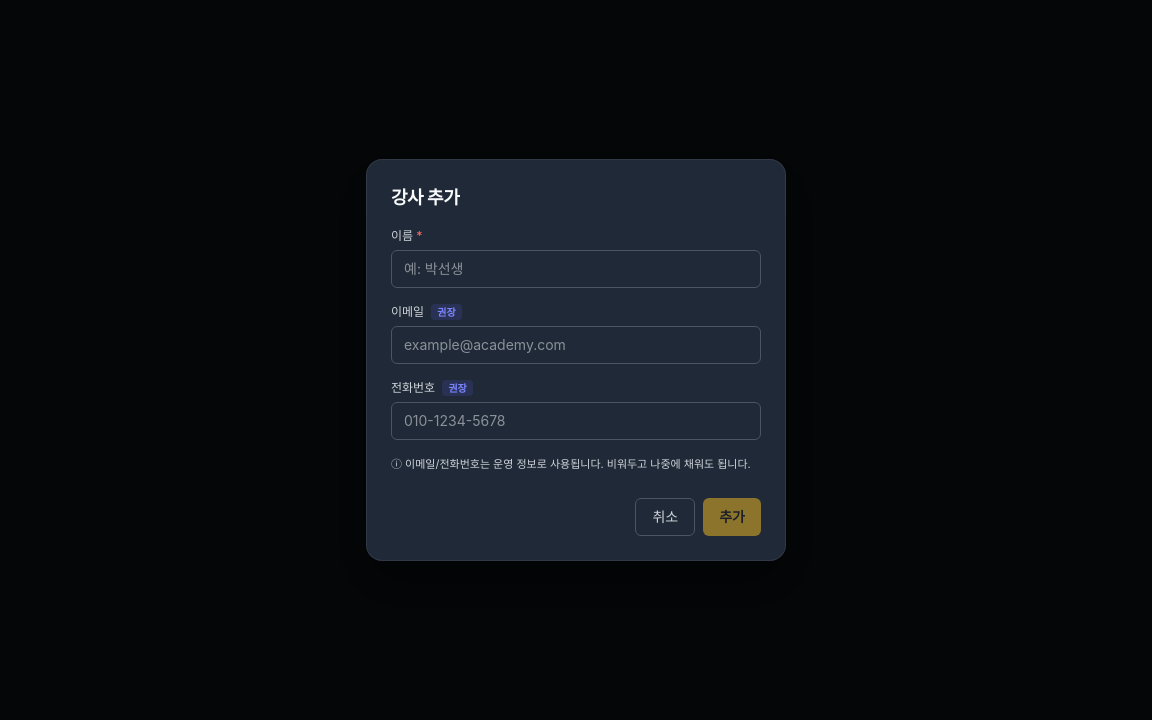
TeacherAddDetailModal › 잘못된 이메일 형식 → 에러 메시지
Type "박선생" into the field labelled "이름 *" at (576, 269), box [391,250,761,288]
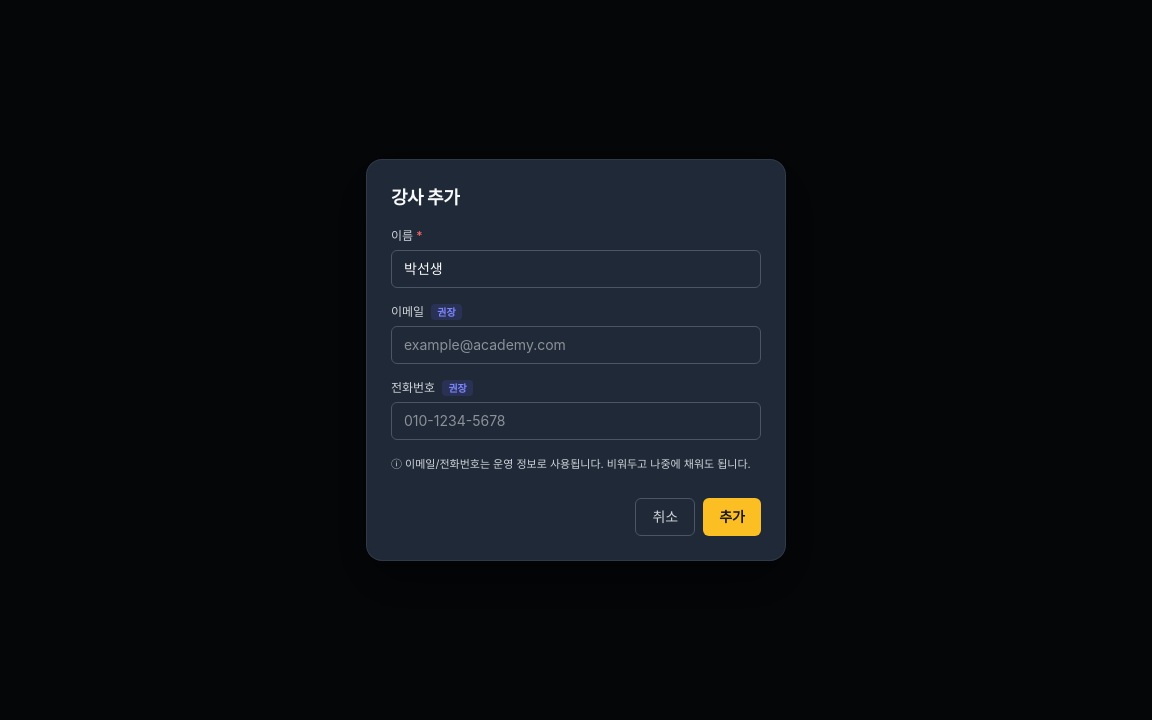
Type "not-an-email" into the field labelled "이메일 권장" at (576, 345), box [391,326,761,364]
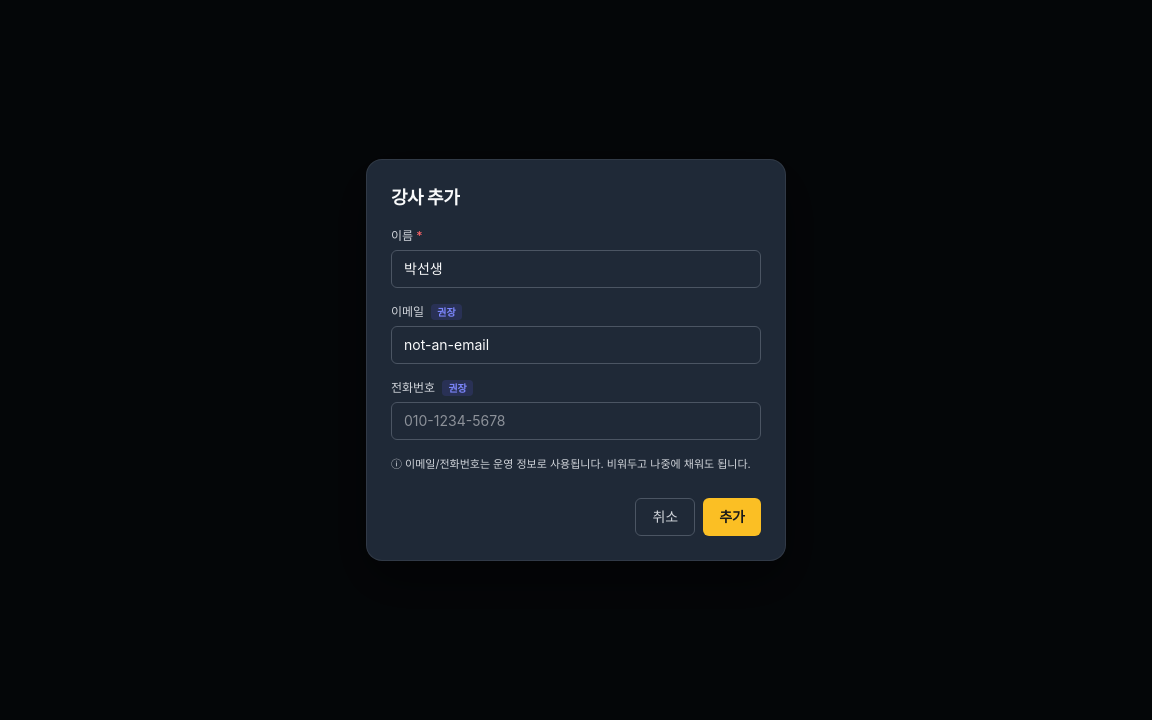
Click the button "추가" at (732, 517), box [703,498,761,536]
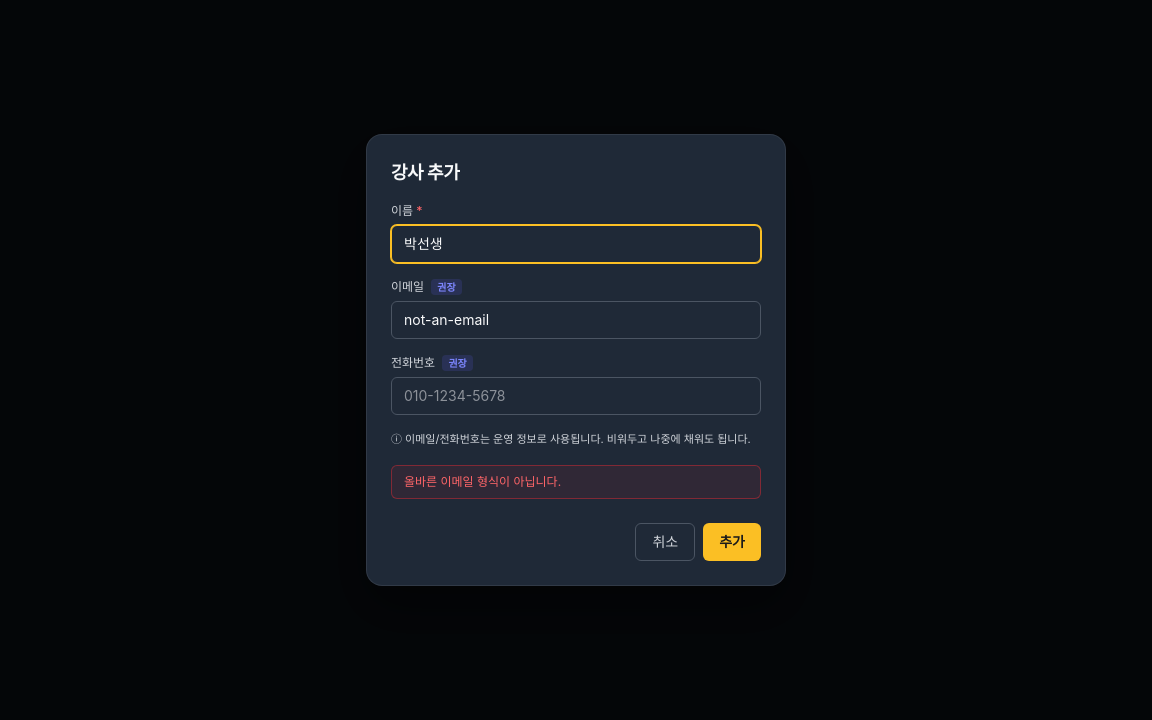
Result: the message shows "이메일" at [404,474,561,489]
